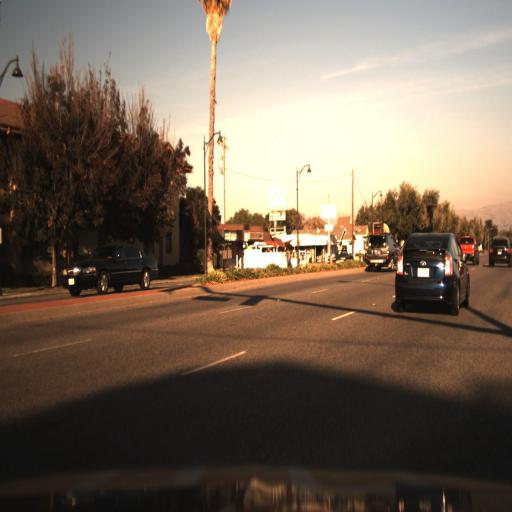car: (393, 227, 470, 315), (60, 241, 158, 297), (361, 226, 402, 273), (487, 230, 510, 268), (330, 248, 359, 270)
